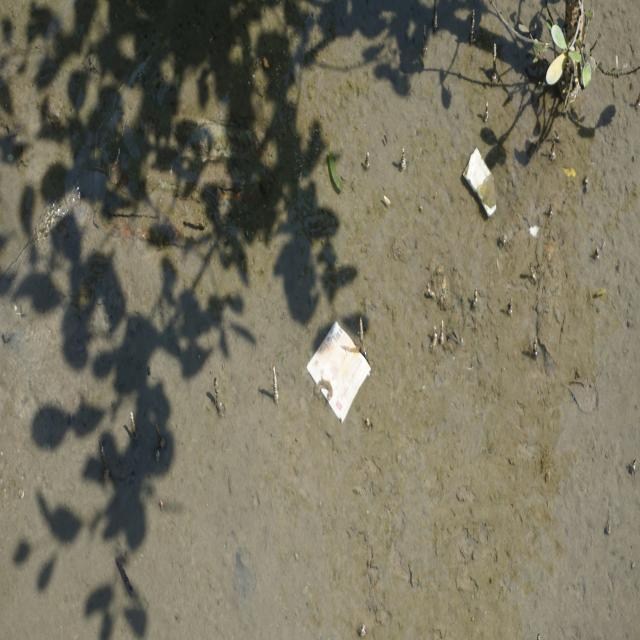Bungkus Makanan: (461, 143, 501, 227)
Bungkus Minuman: (308, 322, 372, 428)
